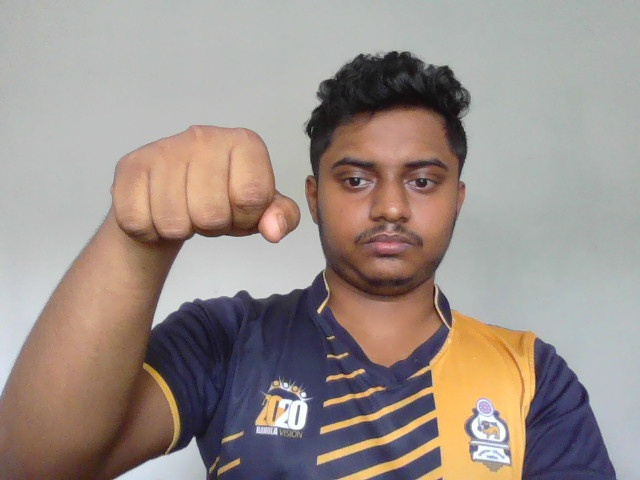Yes: (107, 119, 303, 254)
